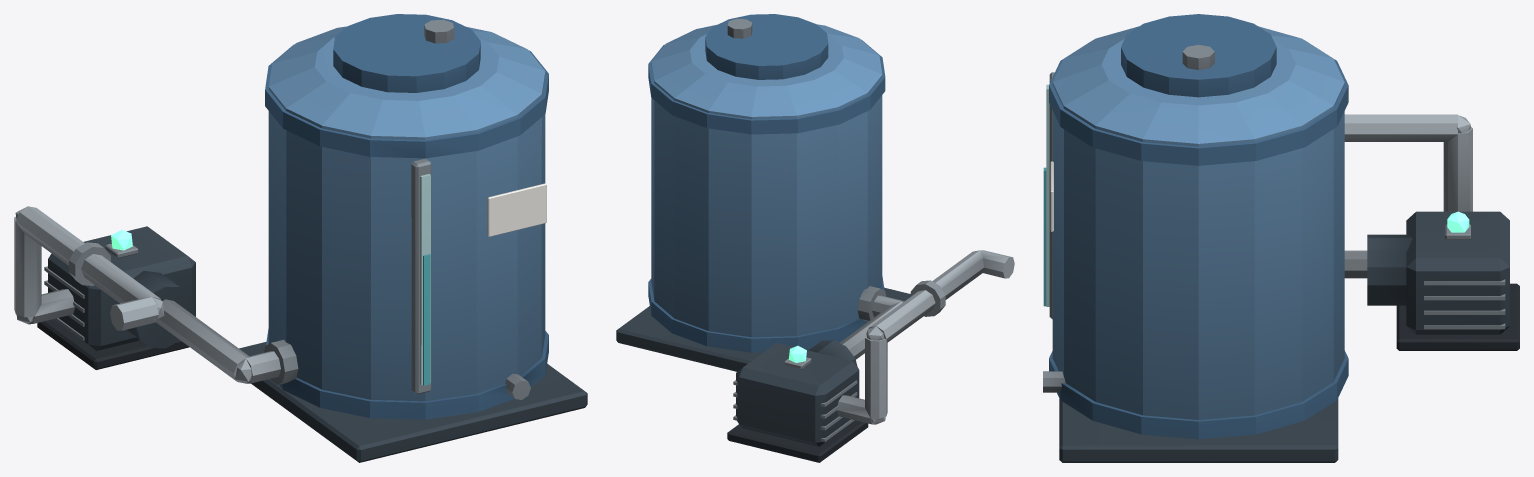
The model's file is nutrient_tank.glb.
3 renders of one model, left to right at view 1: azimuth 30°, elevation 25°; view 2: azimuth 150°, elevation 25°; view 3: azimuth 270°, elevation 25°, orthographic. The views are drawn at different scales.
Parts seen in each view (by area): view 1: nutrient_tank; view 2: nutrient_tank; view 3: nutrient_tank.
Boxes of the visible parts, box(x1,y1,x2,y2) form: nutrient_tank: box(14, 14, 587, 462); nutrient_tank: box(616, 14, 1014, 462); nutrient_tank: box(1043, 14, 1519, 462).
Size of the model in its own units: 1.54 by 1.26 by 1.47.
Materials: 2 (1 with a texture image).
